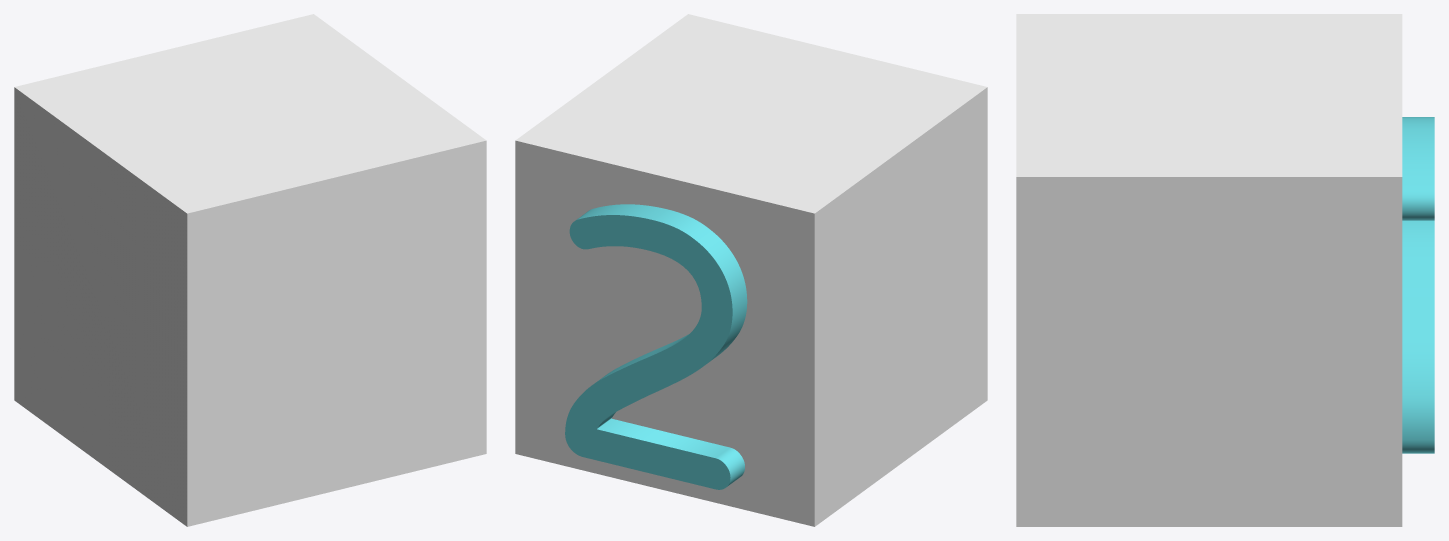
File: stage2.obj
3 renders of one model, left to right at view 1: azimuth 30°, elevation 25°; view 2: azimuth 150°, elevation 25°; view 3: azimuth 270°, elevation 25°, orthographic. The views are drawn at different scales.
Visible parts, largest first — view 1: Cube; view 2: Cube, テキスト; view 3: Cube, テキスト.
Part boxes in pixels (x1,y1,x2,y2): Cube: (14,14,486,526); Cube: (515,14,987,526); テキスト: (565,204,747,489); Cube: (1016,14,1402,526); テキスト: (1402,117,1434,453).
Size of the model in its own units: 2 by 2 by 2.17.
Materials: 2 (2 with a texture image).
